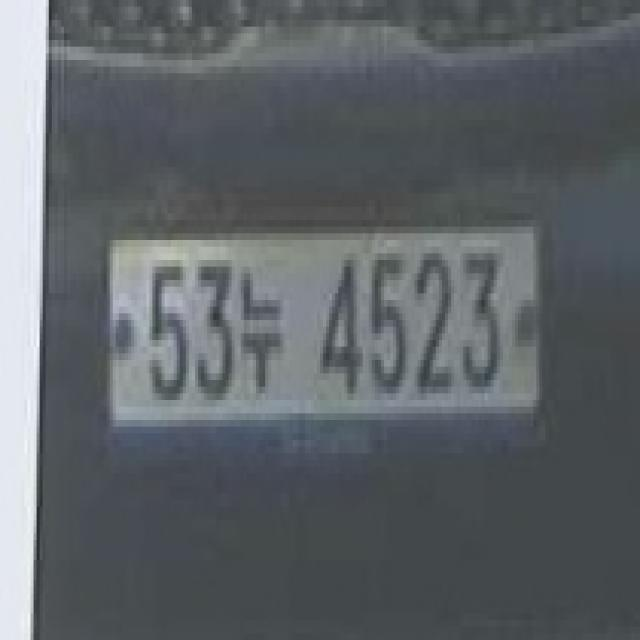2: (412, 247, 461, 413)
3: (195, 234, 241, 414), (457, 240, 506, 407)
4: (320, 247, 366, 413)
5: (146, 253, 192, 400), (372, 247, 408, 400)
license_plate: (94, 220, 552, 460)
nu: (240, 253, 296, 400)
